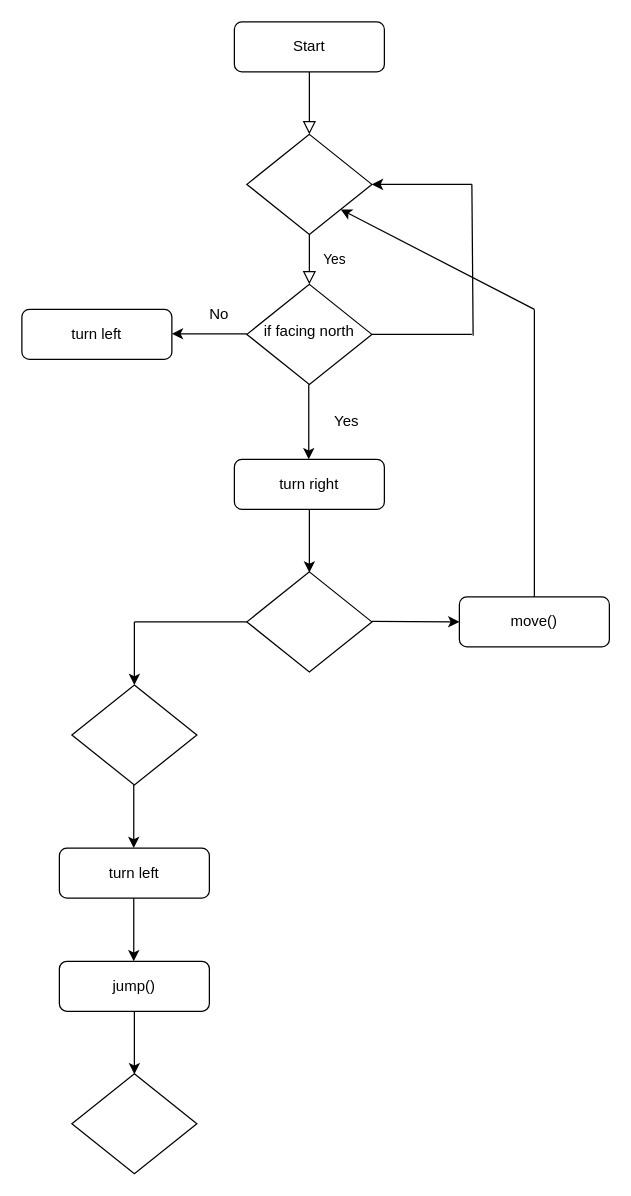
This 631x1196 diagram has some shape labels left out. The centre of each missing label's shape, as x and y in pixels:
"elif wall in front" goes at (x=134, y=734).
"if front is clear" goes at (x=309, y=621).
"wall in front" goes at (x=134, y=1123).
"while not at goal" goes at (x=309, y=183).
